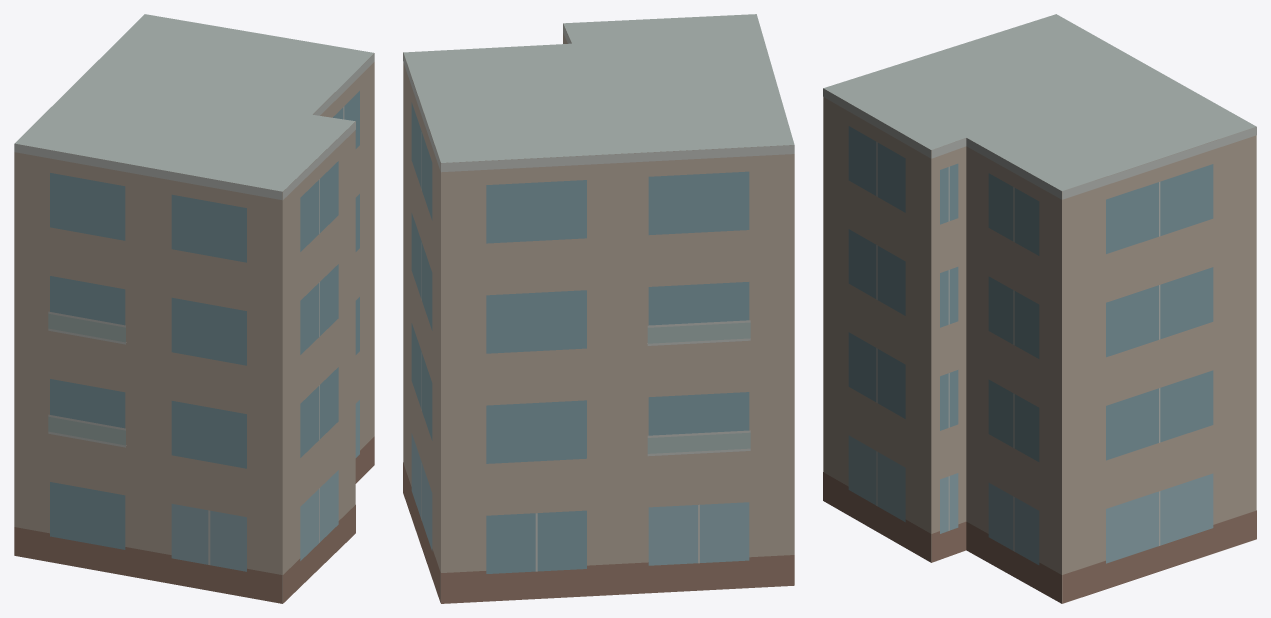
Rendered from survey-upis-32788242.glb.
The picture shows the model from 3 angles, left to right: view 1: azimuth 30°, elevation 25°; view 2: azimuth 150°, elevation 25°; view 3: azimuth 270°, elevation 25°; orthographic projection. The views are drawn at different scales.
Visible parts, largest first — view 1: survey-upis-32788242.tmp; view 2: survey-upis-32788242.tmp; view 3: survey-upis-32788242.tmp.
Part boxes in pixels (x1,y1,x2,y2): survey-upis-32788242.tmp: (14, 14, 374, 603); survey-upis-32788242.tmp: (403, 14, 794, 603); survey-upis-32788242.tmp: (823, 14, 1256, 603).
Bounding box in the file's own units: 10.84 × 11.75 × 11.2.
